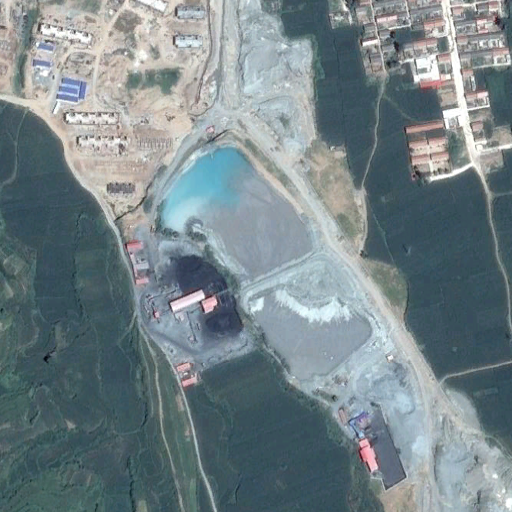tp: (159, 133, 385, 395)
